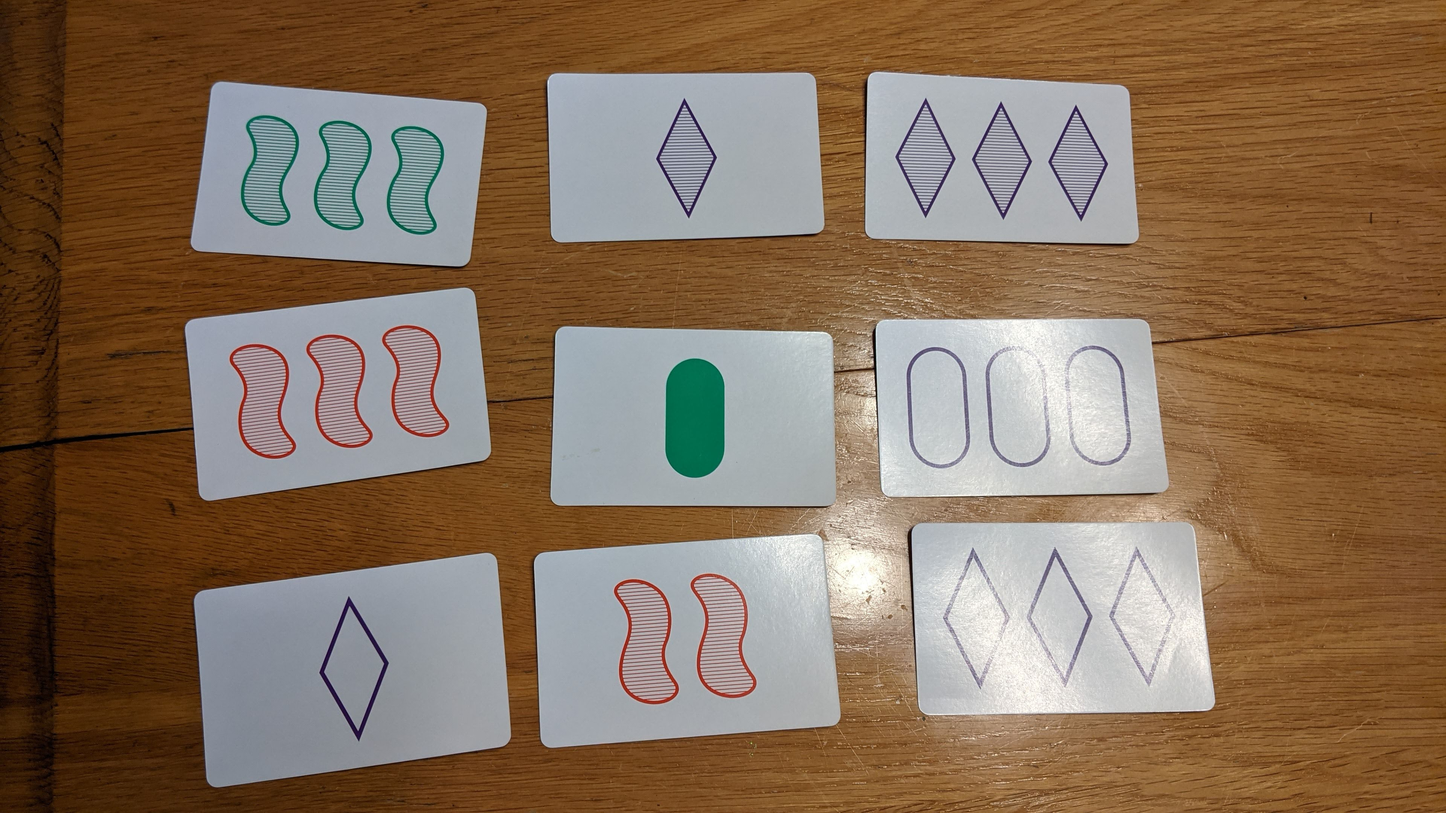card: (192, 554, 511, 786), (184, 287, 492, 502), (534, 534, 841, 748), (910, 523, 1214, 712), (191, 82, 488, 265), (549, 326, 838, 508), (875, 319, 1168, 496), (863, 72, 1142, 245), (546, 73, 825, 243)
